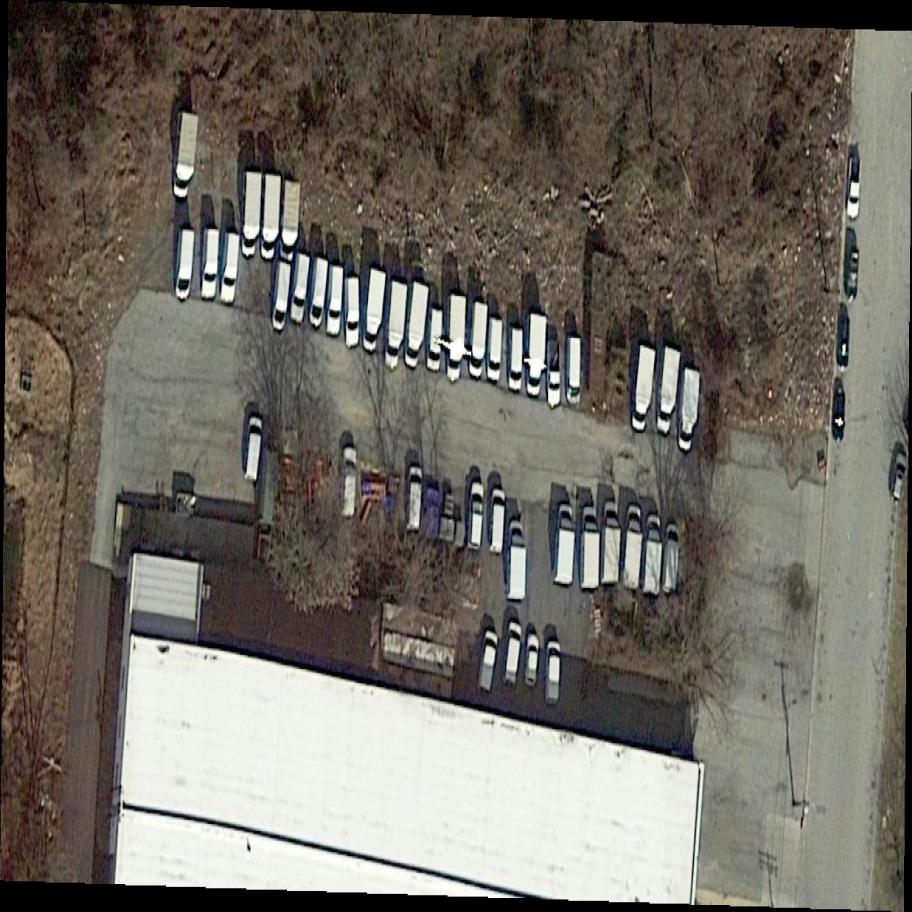large-vehicle: (171, 110, 200, 204), (653, 344, 682, 434), (382, 279, 409, 372), (631, 344, 657, 429), (405, 279, 429, 366), (553, 500, 577, 585), (677, 370, 701, 453), (268, 257, 294, 332), (643, 515, 667, 595), (525, 311, 548, 394), (364, 267, 386, 351), (290, 249, 314, 326), (624, 503, 645, 588), (308, 250, 332, 324), (280, 182, 302, 261), (579, 509, 601, 588), (262, 168, 280, 257), (469, 302, 490, 378), (448, 296, 467, 380), (509, 520, 529, 599), (241, 418, 265, 483), (199, 223, 220, 296), (603, 504, 621, 585), (243, 173, 260, 258), (175, 227, 194, 297), (221, 228, 238, 303), (325, 268, 344, 334), (344, 269, 360, 342)
small-vehicle: (474, 627, 502, 696), (500, 616, 526, 690), (465, 478, 487, 553), (486, 485, 508, 557), (843, 152, 865, 222), (662, 522, 682, 596), (887, 448, 912, 507), (340, 447, 359, 522), (403, 466, 423, 536), (424, 304, 444, 374), (833, 309, 854, 374), (828, 383, 849, 446), (566, 332, 583, 408), (522, 631, 543, 691), (842, 243, 862, 303), (543, 641, 562, 704), (547, 341, 564, 408)
